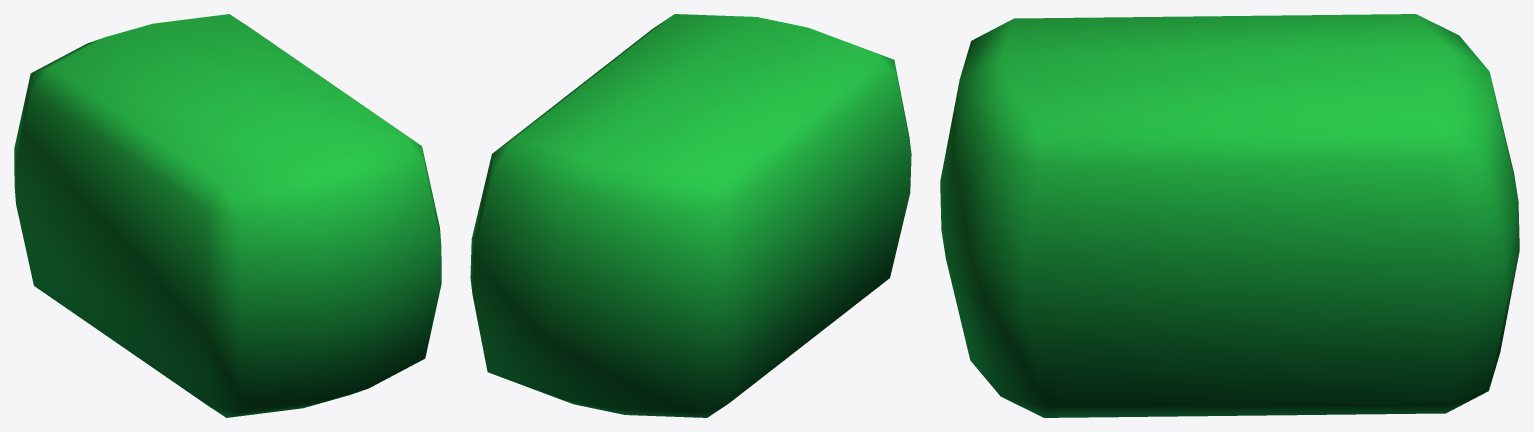
Rendered from Bush_1_5.glb.
The picture shows the model from 3 angles, left to right: view 1: azimuth 30°, elevation 25°; view 2: azimuth 150°, elevation 25°; view 3: azimuth 270°, elevation 25°; orthographic projection. The views are drawn at different scales.
Parts seen in each view (by area): view 1: Bush_1_5; view 2: Bush_1_5; view 3: Bush_1_5.
Part boxes in pixels (x1=…): Bush_1_5: x1=14, y1=14, x2=441, y2=417; Bush_1_5: x1=470, y1=14, x2=911, y2=417; Bush_1_5: x1=940, y1=14, x2=1519, y2=417.
Bounding box in the file's own units: 0.799 × 0.728 × 1.29.
Materials: 1 (1 with a texture image).
